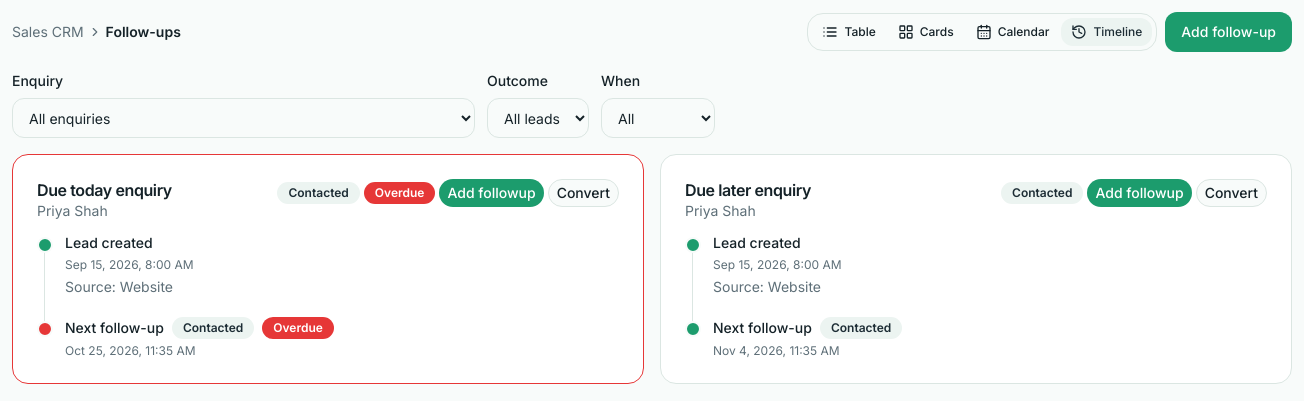
Test: CRM modules › filters the follow-up recent view by today, tomorrow, and upcoming
The image size is (1304, 401).
Expected: the text "Due today enquiry" is shown, x1=37 y1=179 x2=172 y2=201
Expected: the text "Due later enquiry" is shown, x1=685 y1=179 x2=811 y2=201
Select "Today" in the dropdown labelled "When". click: (658,118)
box: x1=601 y1=98 x2=715 y2=138
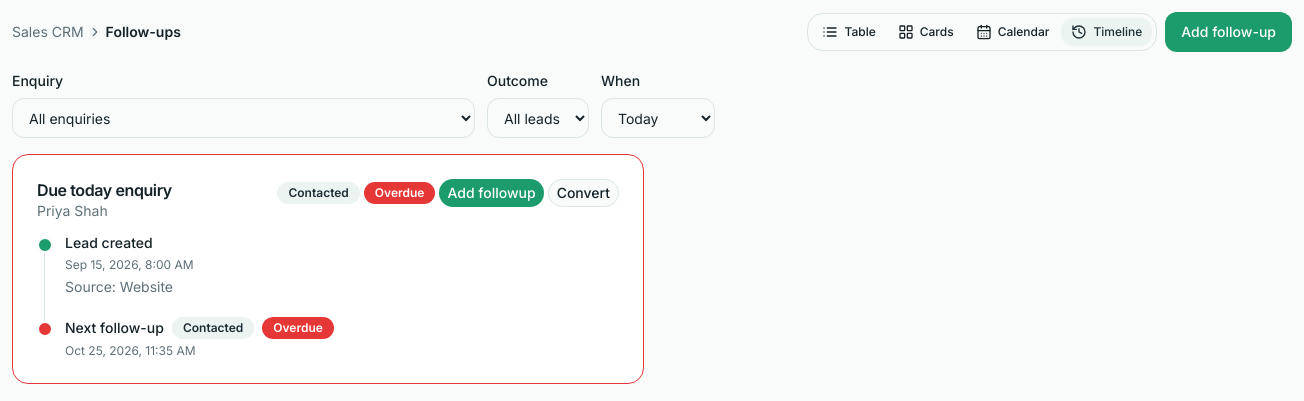
Expected: the text "Due today enquiry" is shown, x1=37 y1=179 x2=172 y2=201
Now the text "Due later enquiry" is gone
Select "Upcoming" in the dropdown labelled "When". click: (658,118)
box: x1=601 y1=98 x2=715 y2=138
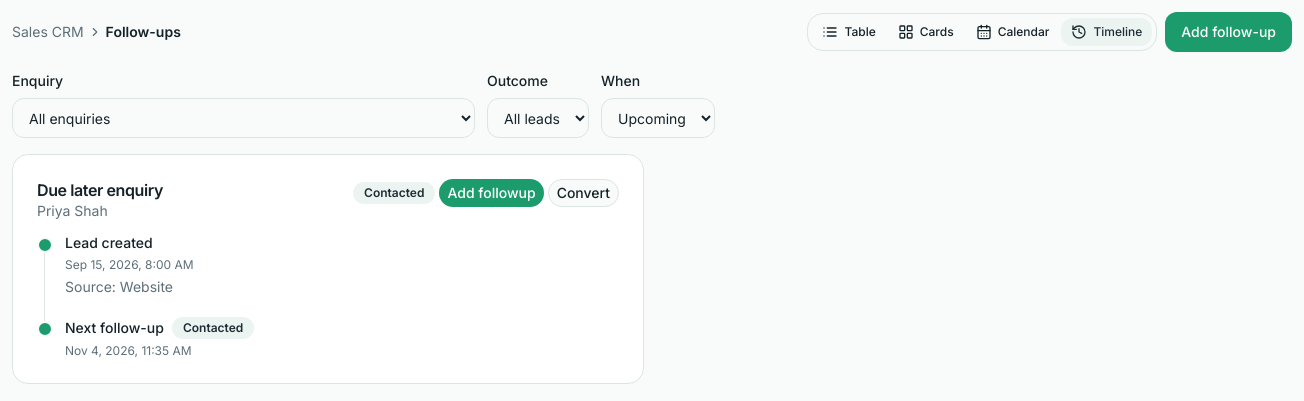
Now the text "Due today enquiry" is gone
Now the text "Due later enquiry" is shown, box x1=37 y1=179 x2=163 y2=201
